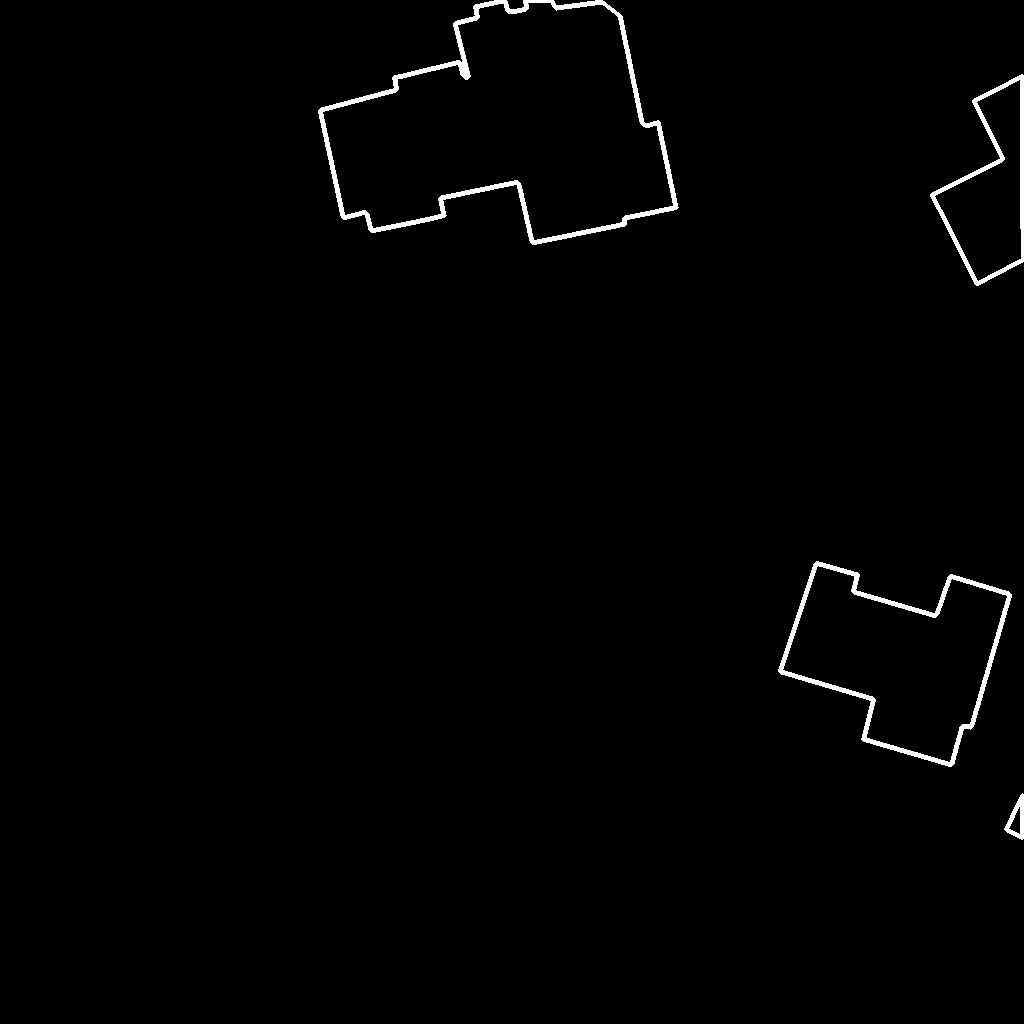building: (320, 0, 677, 244), (780, 563, 1011, 766), (932, 76, 1024, 285), (1006, 794, 1024, 839)
